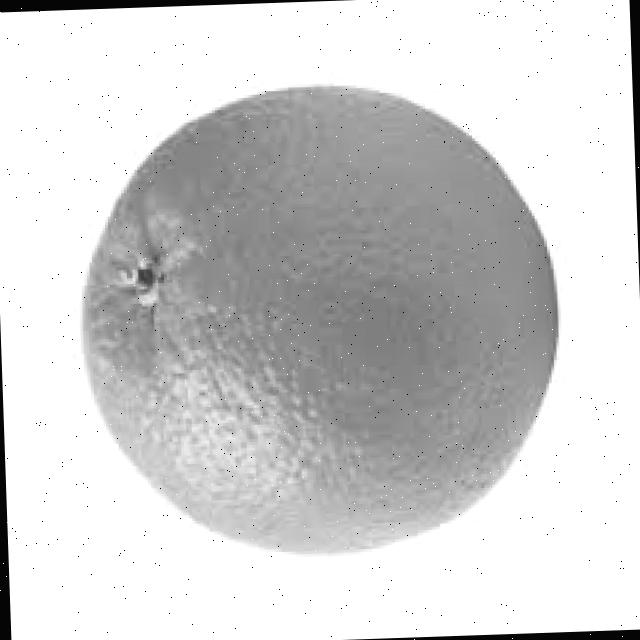Ripe: (63, 68, 570, 570)
